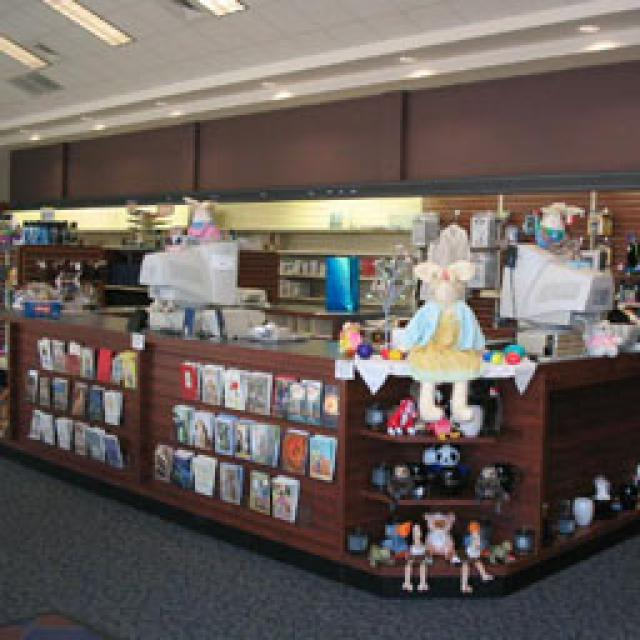book case: (285, 380, 315, 425), (238, 370, 270, 412), (270, 475, 298, 520), (308, 435, 332, 480), (215, 460, 240, 502), (190, 455, 212, 492), (178, 358, 198, 398), (170, 402, 190, 442), (212, 415, 232, 452), (152, 445, 170, 480), (48, 378, 68, 408), (102, 390, 120, 422), (92, 348, 110, 378), (85, 428, 102, 458), (35, 338, 50, 368)
counter bottom: (2, 240, 635, 595)
doll: (402, 248, 480, 420)
floor -X: (2, 455, 635, 638)
monitor crop: (498, 238, 612, 352), (138, 235, 260, 330)
toy crio: (458, 520, 492, 588), (400, 522, 428, 588)
wall clock: (0, 60, 635, 372)
